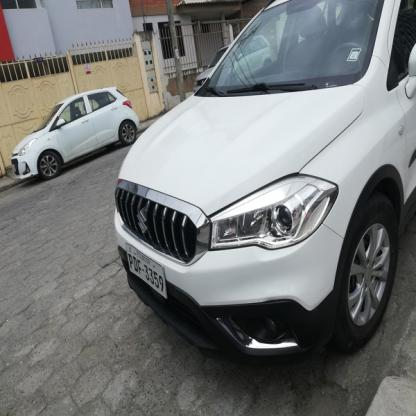Placa: (124, 242, 170, 302)
